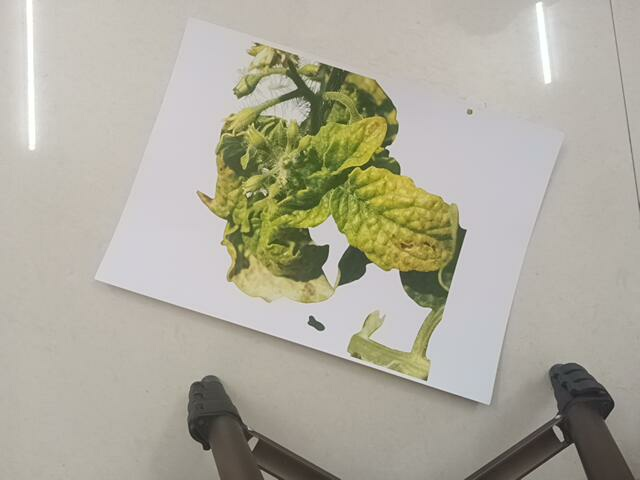Tomamto_Leaf_curl_virus: (204, 44, 456, 377)
